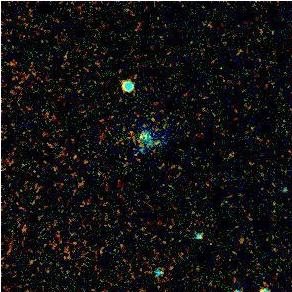star: (136, 103, 166, 133)
